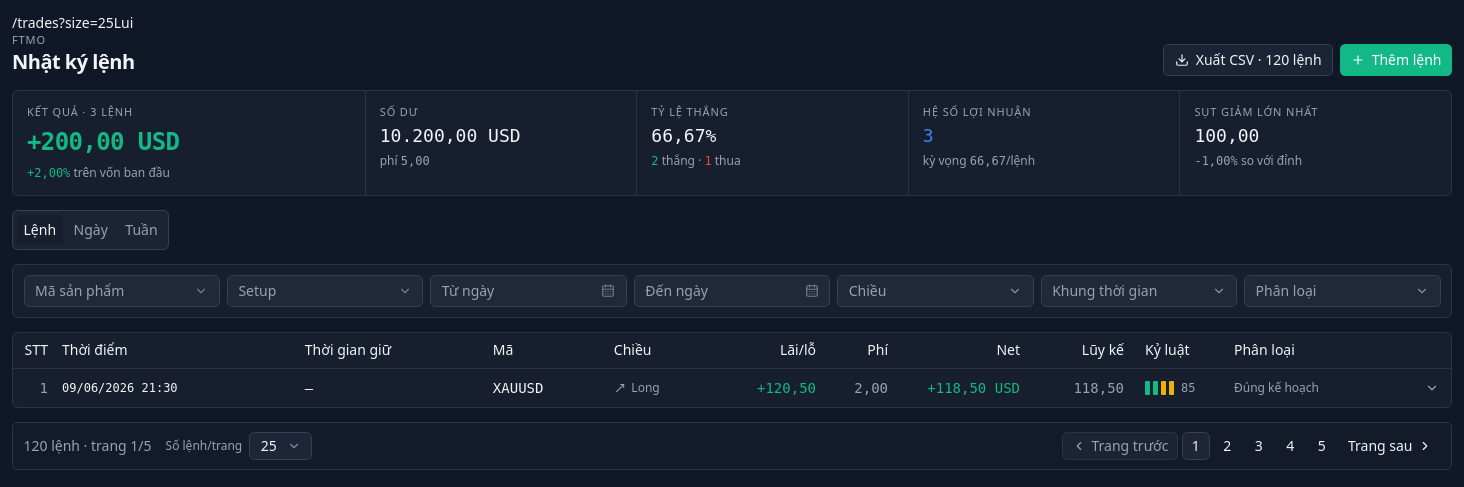
Test: hiện link số trang và giữ size khi chuyển trang
Expected: the row "XAUUSD" is shown, [13, 368, 1451, 407]
What coordinates should you click on to do the following:
click the link named "Đến trang 3"
I would click on:
 (1259, 445)
Its box is [1255, 436, 1263, 455].
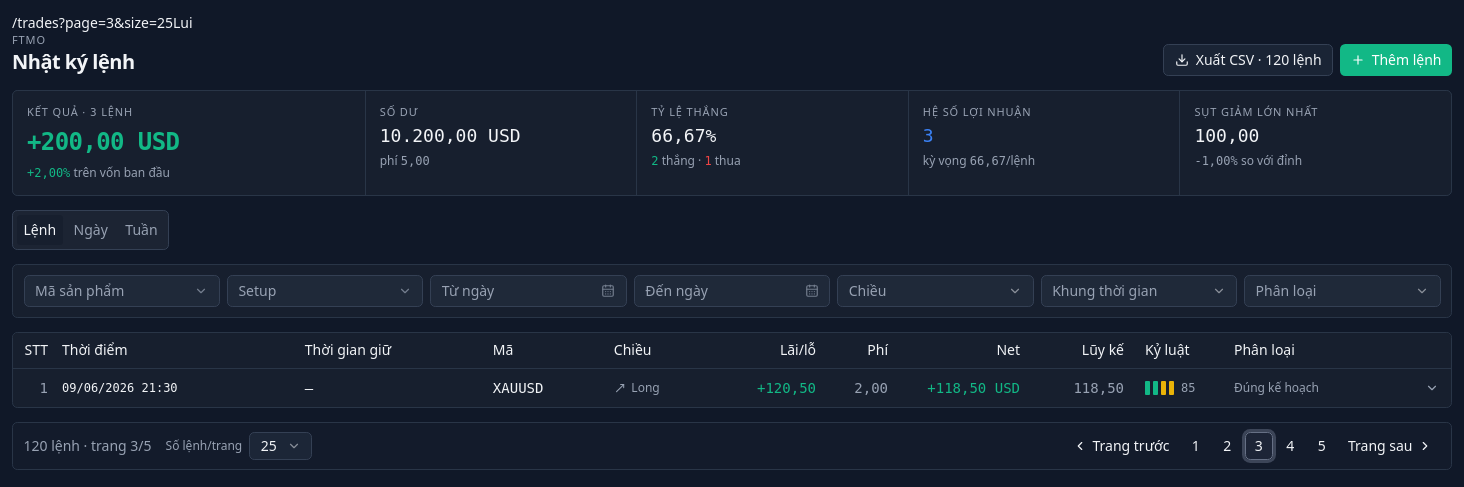
Expected: the text with test id "url" reads "/trades?page=3&size=25", [12, 13, 173, 32]
